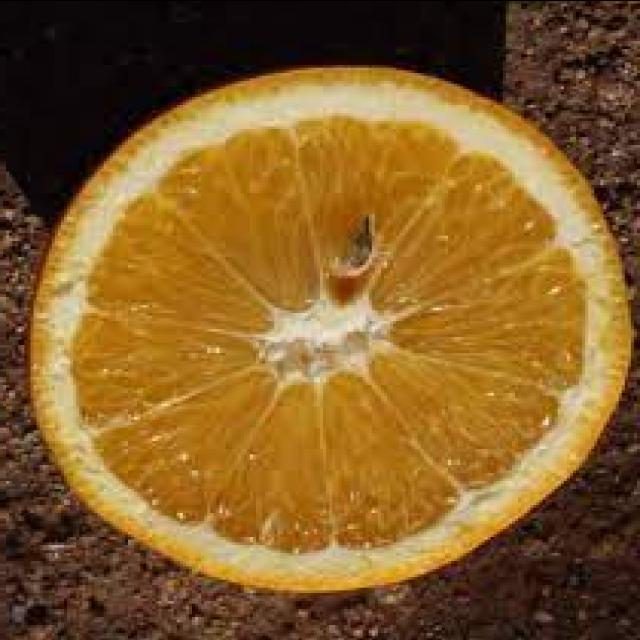orange: (30, 47, 638, 602)
